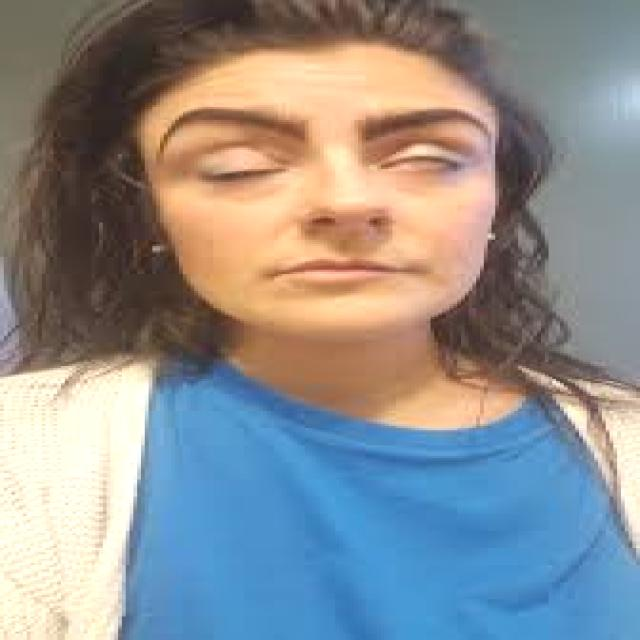stroke_face: (80, 31, 572, 390)
